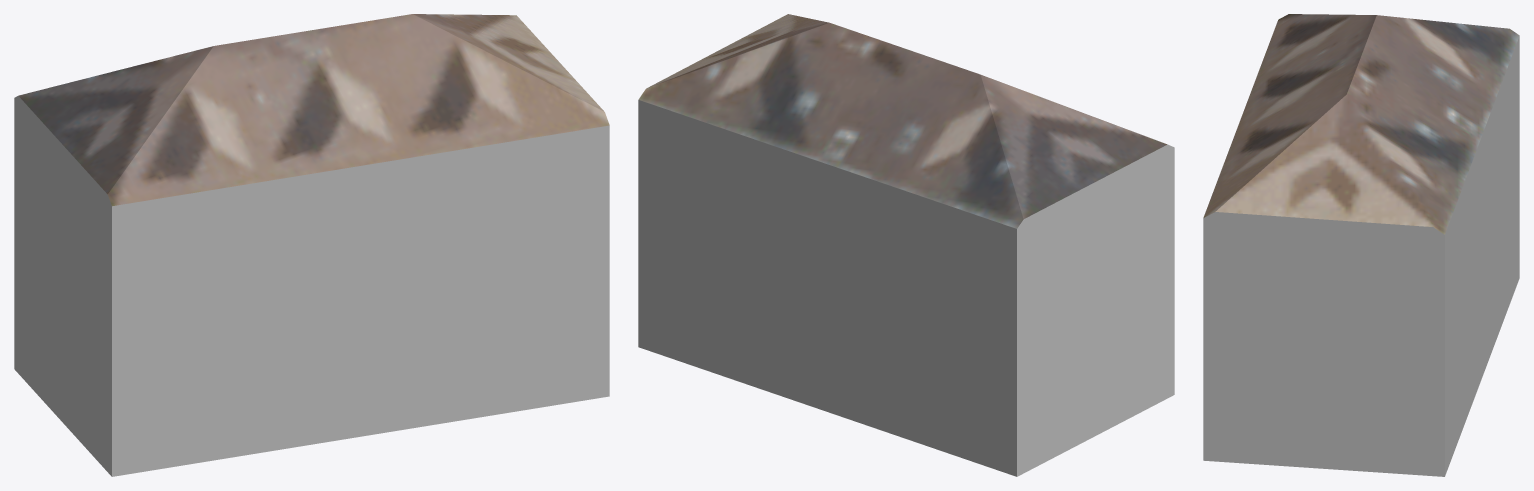
Rendered from DEBW_0010007Txc9.gltf.
The picture shows the model from 3 angles, left to right: view 1: azimuth 30°, elevation 25°; view 2: azimuth 150°, elevation 25°; view 3: azimuth 270°, elevation 25°; orthographic projection. The views are drawn at different scales.
Visible parts, largest first — view 1: Z_UP; view 2: Z_UP; view 3: Z_UP.
Boxes of the visible parts, bbox=[...] form: Z_UP: bbox=[14, 14, 609, 476]; Z_UP: bbox=[638, 14, 1174, 476]; Z_UP: bbox=[1203, 14, 1519, 476].
Size of the model in its own units: 27.82 by 19 by 17.29.
2 materials, 1 textured.
